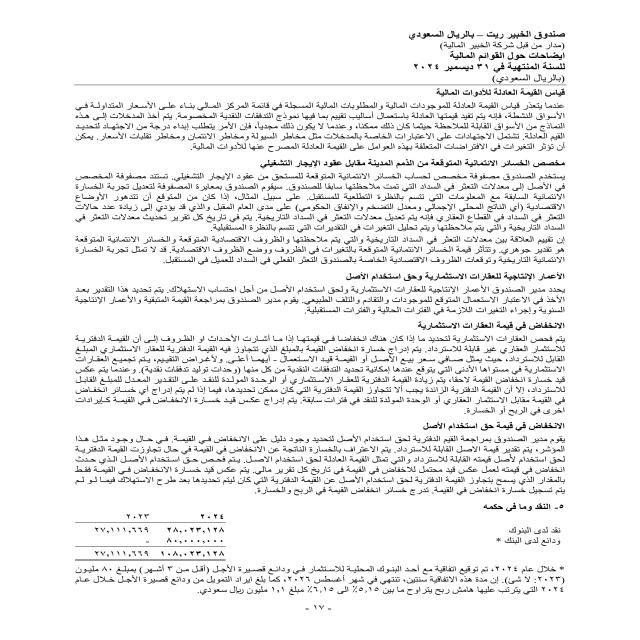notes: (439, 50, 566, 63)
text: (60, 87, 577, 603)
